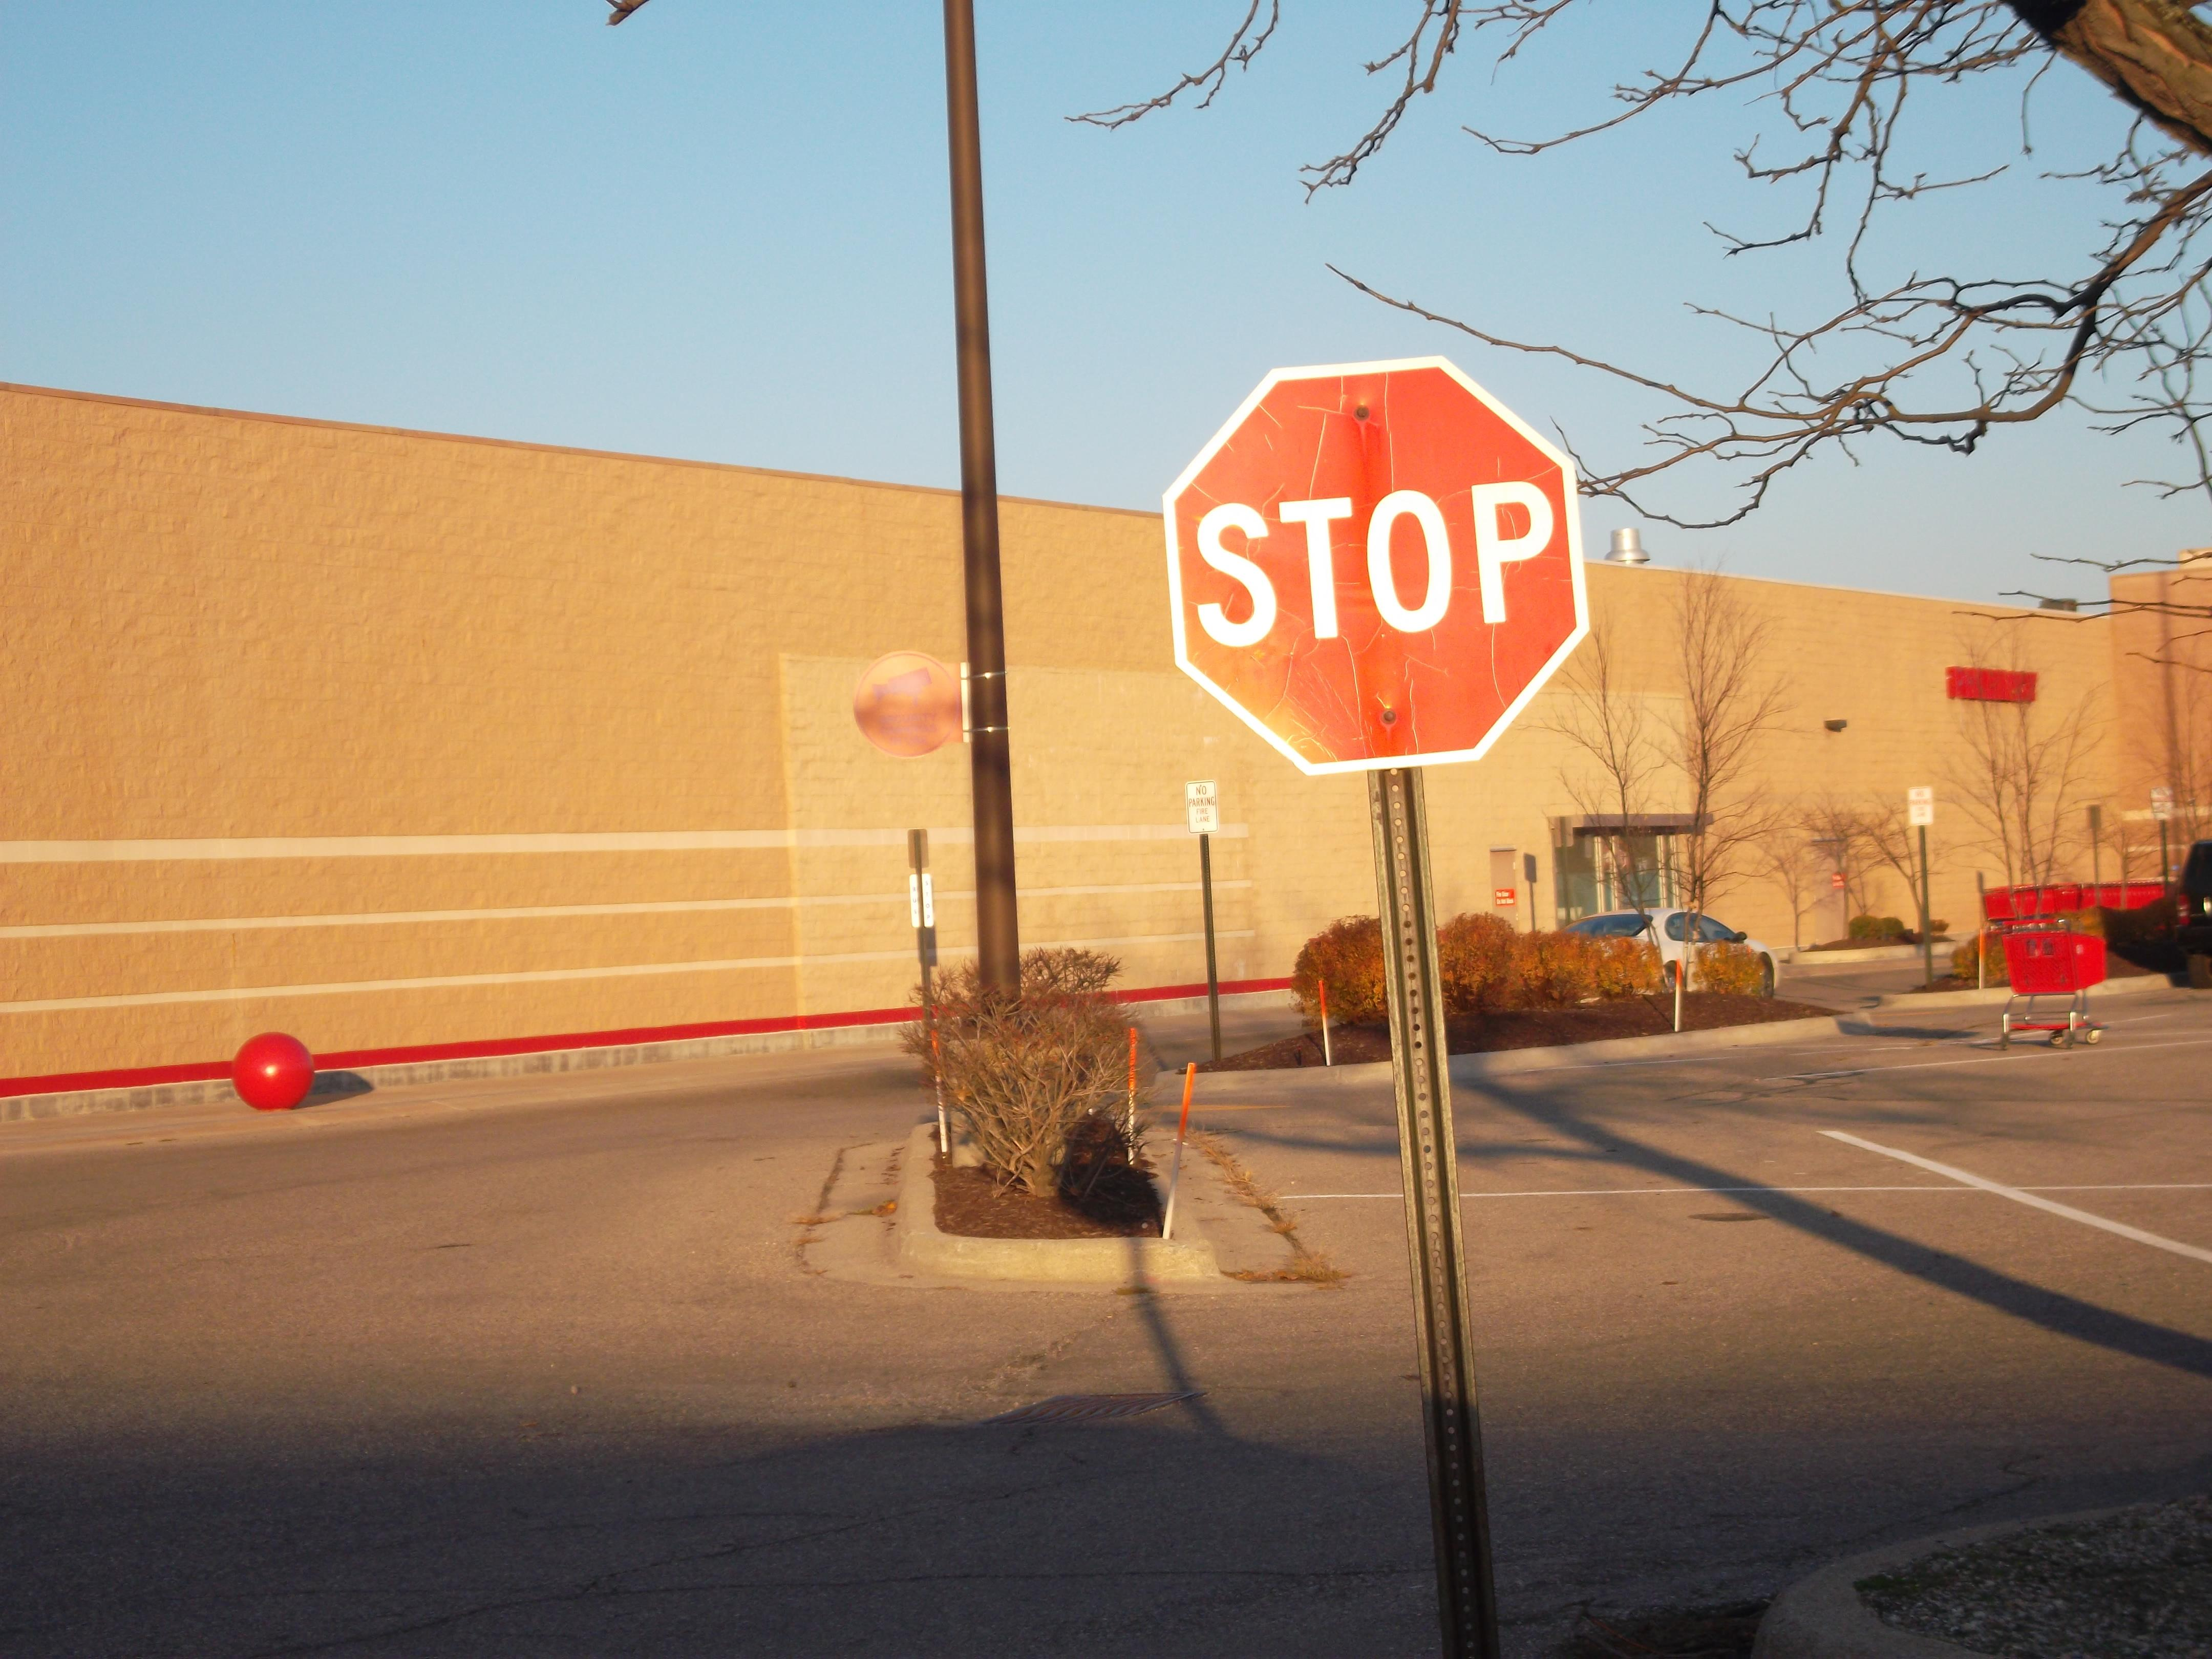stop: (1158, 347, 1611, 789)
